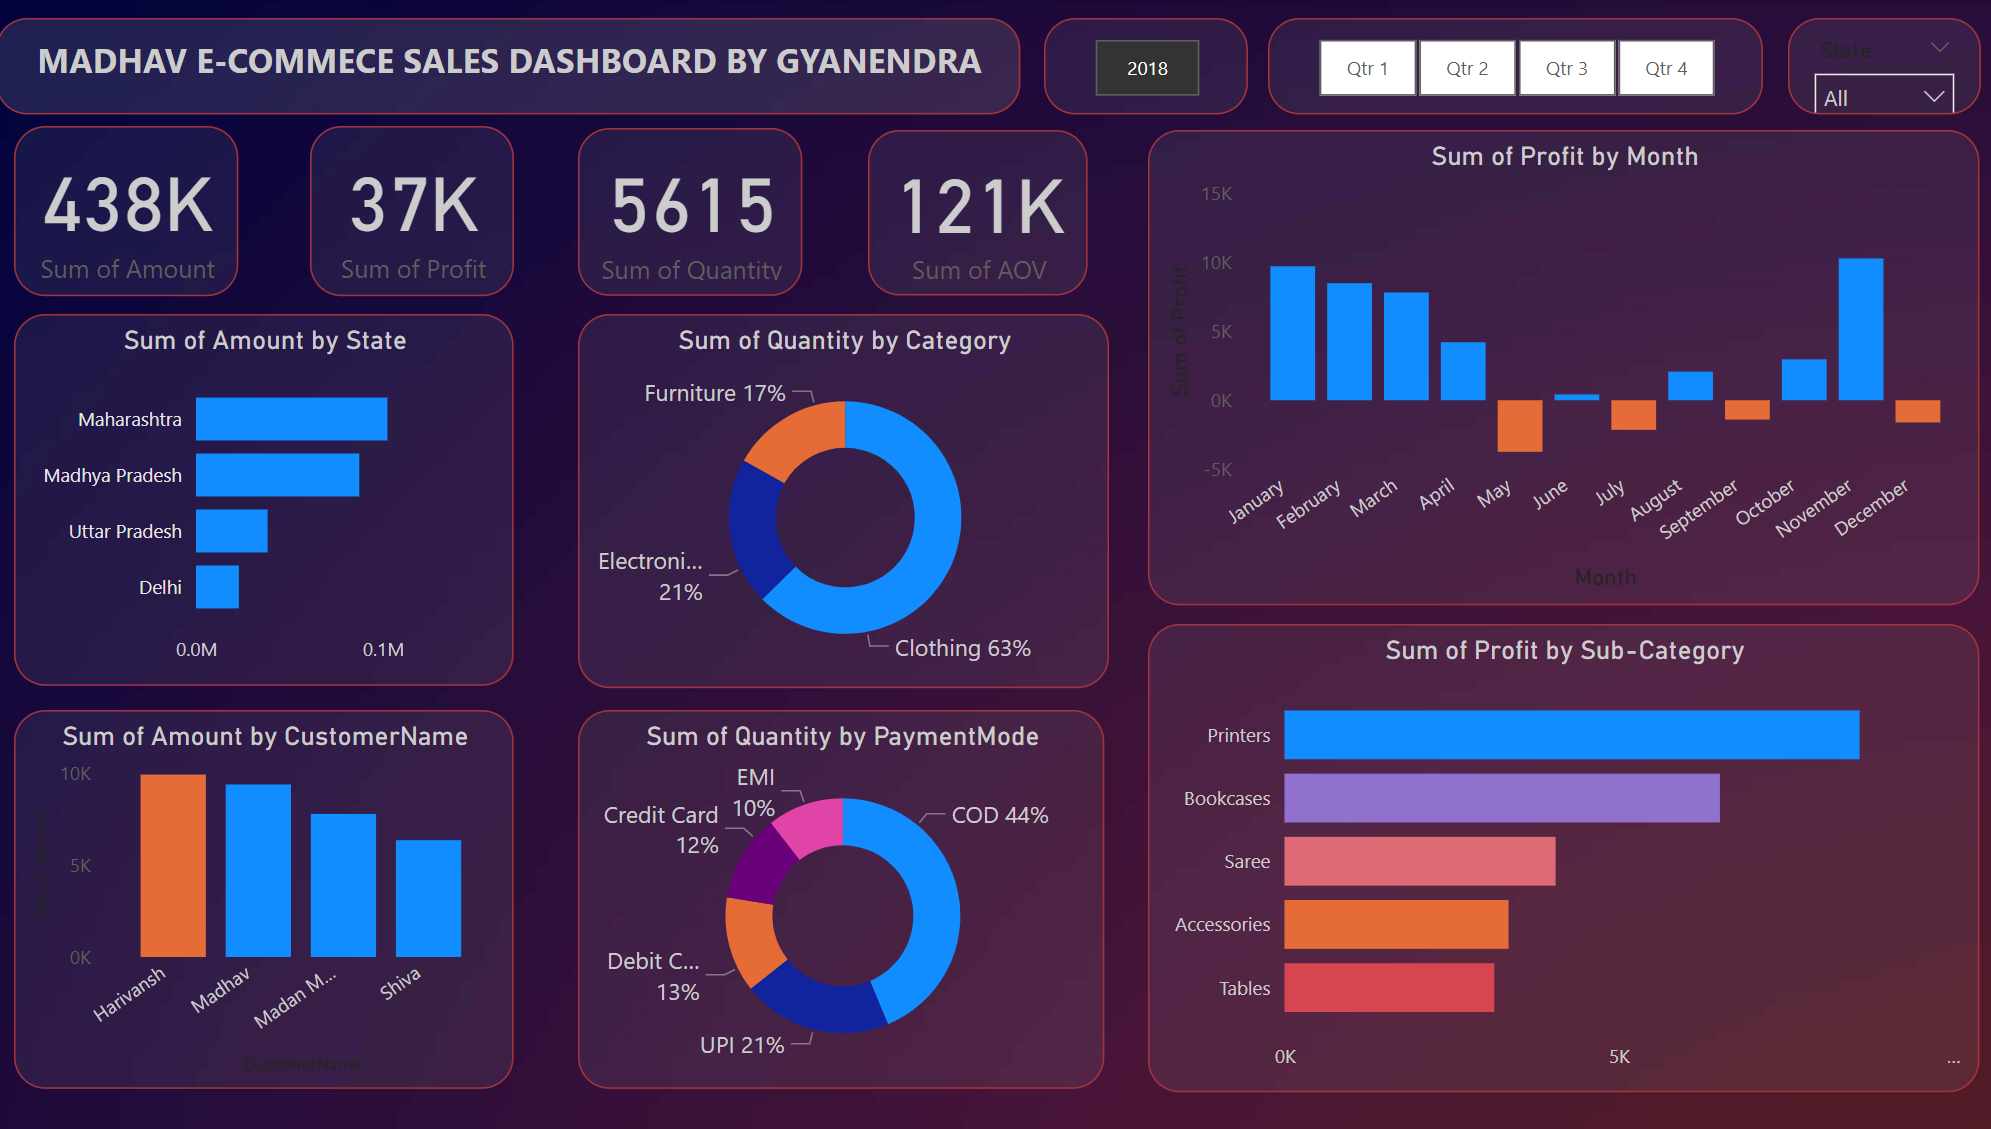

What the dashboard file says about the page in this screenshot:
{"tool":"powerbi","page":{"name":"Page 1","canvas":[1280,720],"ordinal":0},"visuals":[{"type":"lineStackedColumnComboChart","fields":{"Category":["Orders.Order Date.Variation.Date Hierarchy.Month"],"Y":["Details.Profit"]},"box":[734.3,82.9,530,302.9],"z":0},{"type":"textbox","box":[0,11.4,652.9,61.4],"z":1000},{"type":"clusteredBarChart","fields":{"Category":["Details.Sub-Category"],"Y":["Details.Profit"]},"box":[734.3,397.1,530,298.6],"z":1001},{"type":"donutChart","fields":{"Category":["Details.Category"],"Y":["Details.Quantity"]},"box":[371.4,200,338.6,238.6],"z":1002},{"type":"donutChart","fields":{"Y":["Details.Quantity"],"Category":["Details.PaymentMode"]},"box":[371.4,452.9,335.7,241.4],"z":1003},{"type":"card","fields":{"Values":["Details.Profit"]},"box":[200,80,130,108.6],"z":1004},{"type":"card","fields":{"Values":["Details.Amount"]},"box":[11.4,80,142.9,108.6],"z":1005},{"type":"card","fields":{"Values":["Details.AOV"]},"box":[555.7,82.9,140,105.7],"z":1006},{"type":"card","fields":{"Values":["Details.Quantity"]},"box":[371.4,81.4,142.9,107.1],"z":1007},{"type":"clusteredBarChart","fields":{"Category":["Orders.State"],"Y":["Details.Amount"]},"box":[11.4,200,318.6,237.1],"z":1008},{"type":"lineStackedColumnComboChart","fields":{"Category":["Orders.CustomerName"],"Y":["Details.Amount"]},"box":[11.4,452.9,318.6,241.4],"z":1009},{"type":"slicer","fields":{"Values":["Orders.Order Date.Variation.Date Hierarchy.Quarter"]},"box":[811.4,11.4,315.7,61.4],"z":1010},{"type":"slicer","fields":{"Values":["Orders.State"]},"box":[1142.9,11.4,122.9,61.4],"z":1011},{"type":"slicer","fields":{"Values":["Orders.Order Date.Variation.Date Hierarchy.Year"]},"box":[668.6,11.4,130,61.4],"z":1012}]}

Visuals, with their boxes in screenshot pixels (x1, y1, x2, y2), scaled from the page's 1280x720 canvas onto the 1991x1129 screenshot:
lineStackedColumnComboChart - Orders.Order Date.Variation.Date Hierarchy.Month x Details.Profit: Rect(1142, 130, 1967, 605)
textbox: Rect(0, 18, 1016, 114)
clusteredBarChart - Details.Sub-Category x Details.Profit: Rect(1142, 623, 1967, 1091)
donutChart - Details.Category x Details.Quantity: Rect(578, 314, 1104, 688)
donutChart - Details.Quantity x Details.PaymentMode: Rect(578, 710, 1100, 1089)
card - Details.Profit: Rect(311, 125, 513, 296)
card - Details.Amount: Rect(18, 125, 240, 296)
card - Details.AOV: Rect(864, 130, 1082, 296)
card - Details.Quantity: Rect(578, 128, 800, 296)
clusteredBarChart - Orders.State x Details.Amount: Rect(18, 314, 513, 685)
lineStackedColumnComboChart - Orders.CustomerName x Details.Amount: Rect(18, 710, 513, 1089)
slicer - Orders.Order Date.Variation.Date Hierarchy.Quarter: Rect(1262, 18, 1753, 114)
slicer - Orders.State: Rect(1778, 18, 1969, 114)
slicer - Orders.Order Date.Variation.Date Hierarchy.Year: Rect(1040, 18, 1242, 114)
